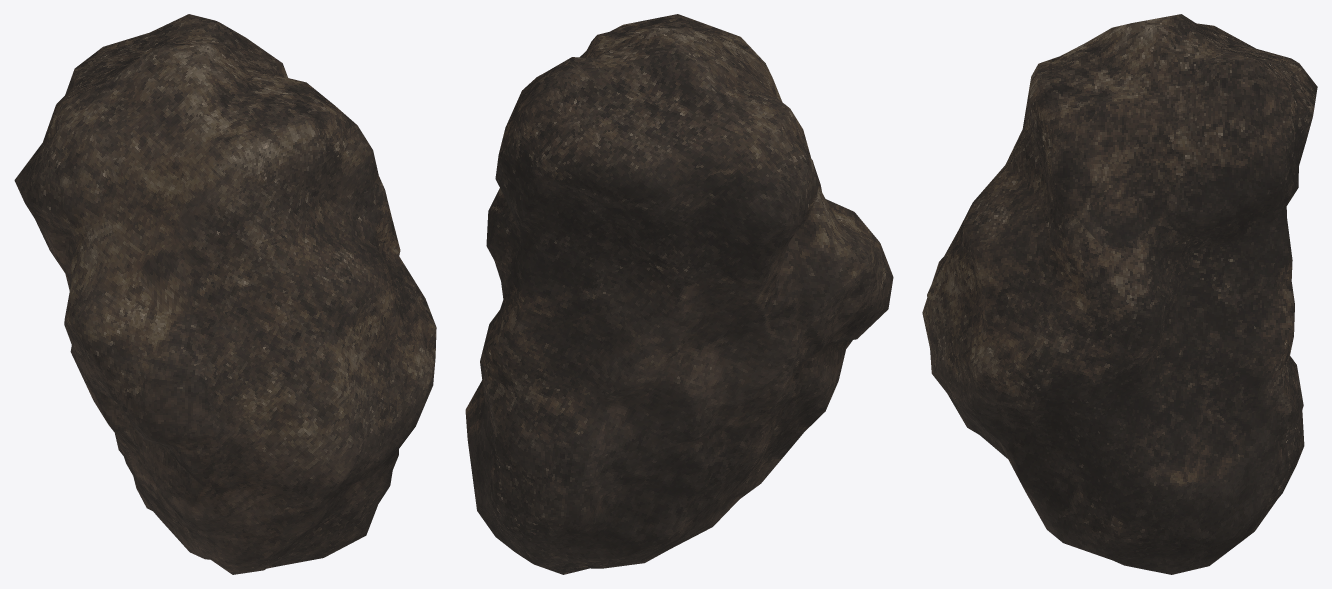
The model's file is SM_RP2_Rock_8m_2.glb.
3 views of the same model, side by side, from view 1: azimuth 30°, elevation 25°; view 2: azimuth 150°, elevation 25°; view 3: azimuth 270°, elevation 25° (orthographic). The views are drawn at different scales.
Visible parts, largest first — view 1: SM_RP2_Rock_8m_2; view 2: SM_RP2_Rock_8m_2; view 3: SM_RP2_Rock_8m_2.
Boxes of the visible parts, x1,y1,x2,y2 form: SM_RP2_Rock_8m_2: (14,14,436,574); SM_RP2_Rock_8m_2: (465,14,893,574); SM_RP2_Rock_8m_2: (922,14,1317,574).
Bounding box in the file's own units: 10.14 × 14.79 × 10.6.
Materials: 1 (1 with a texture image).
